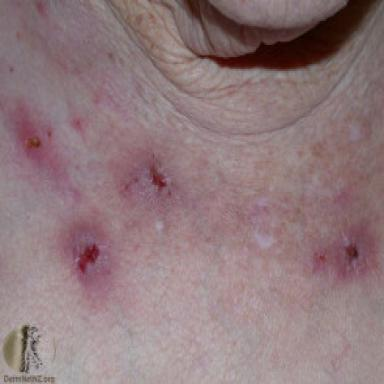acne: (314, 228, 375, 280), (68, 226, 112, 292), (125, 154, 172, 199), (25, 136, 41, 149)
